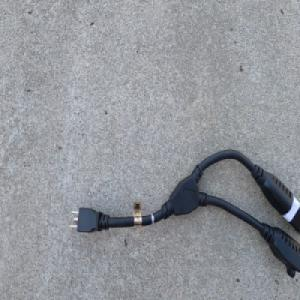Wire: (67, 147, 300, 279)
